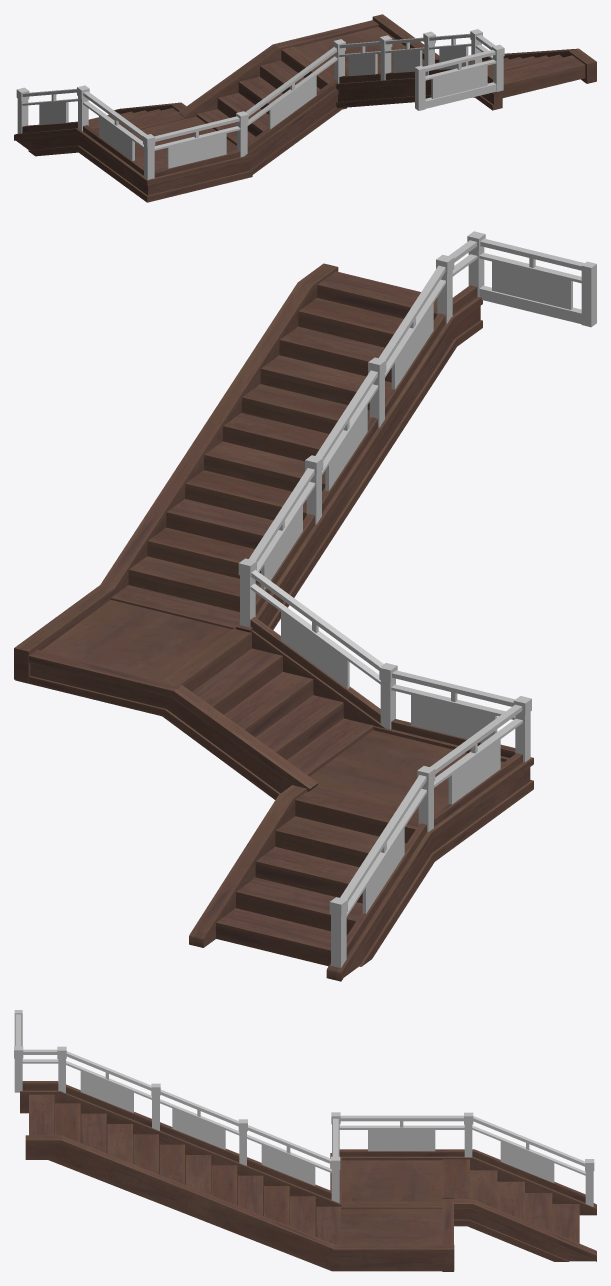
File: Homeworld_Interior_Ly_Room_F_Stair_01_Vo.fbx
3 views of the same model, one above another, from view 1: azimuth 30°, elevation 25°; view 2: azimuth 150°, elevation 25°; view 3: azimuth 270°, elevation 25° (orthographic). The views are drawn at different scales.
Visible parts, largest first — view 1: Homeworld_Interior_Ly_Room_F_Stair_01_Vo; view 2: Homeworld_Interior_Ly_Room_F_Stair_01_Vo; view 3: Homeworld_Interior_Ly_Room_F_Stair_01_Vo.
Part boxes in pixels (x1,y1,x2,y2): Homeworld_Interior_Ly_Room_F_Stair_01_Vo: [14, 14, 596, 202]; Homeworld_Interior_Ly_Room_F_Stair_01_Vo: [14, 231, 596, 981]; Homeworld_Interior_Ly_Room_F_Stair_01_Vo: [14, 1010, 596, 1271].
Bounding box in the file's own units: 7.73 × 6.38 × 13.1.
